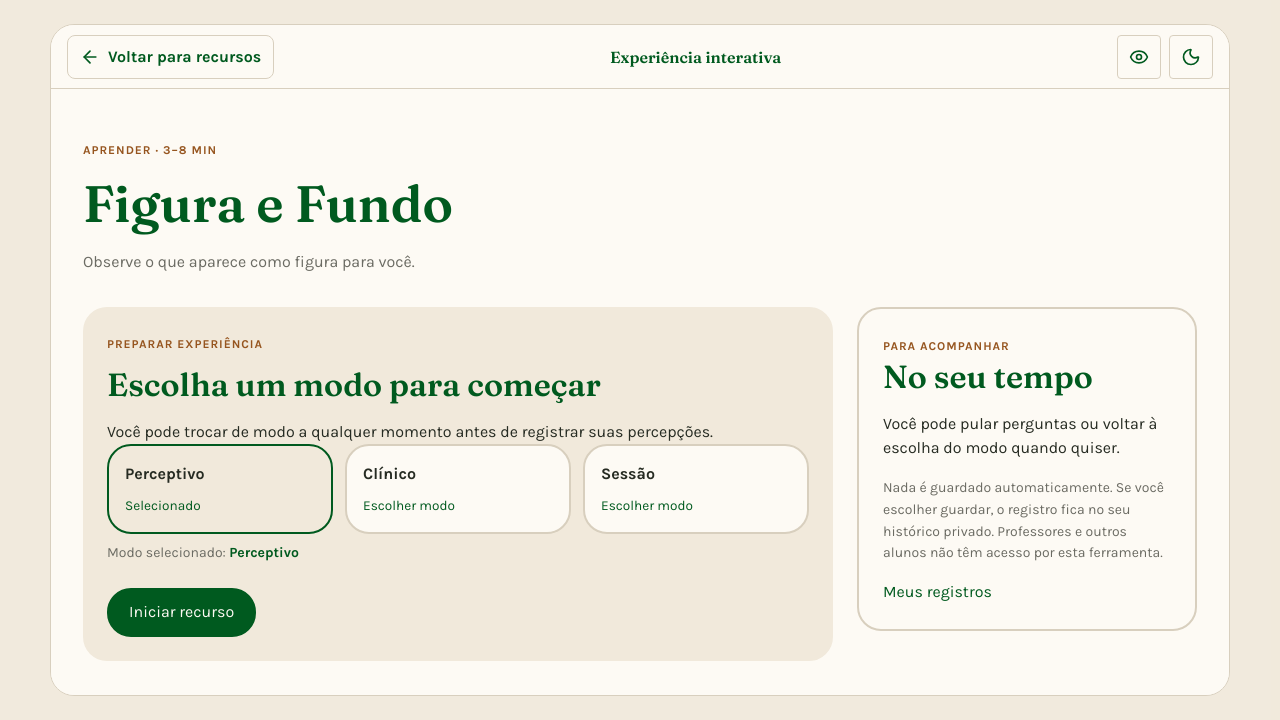
Test: ResourceHost mode changes › supports choosing a mode, starting, and returning to the mode screen
This screenshot has width=1280, height=720.
Click the button "Sessão Escolher modo".
click(696, 489)  # box top-left (583, 444), bottom-right (809, 534)
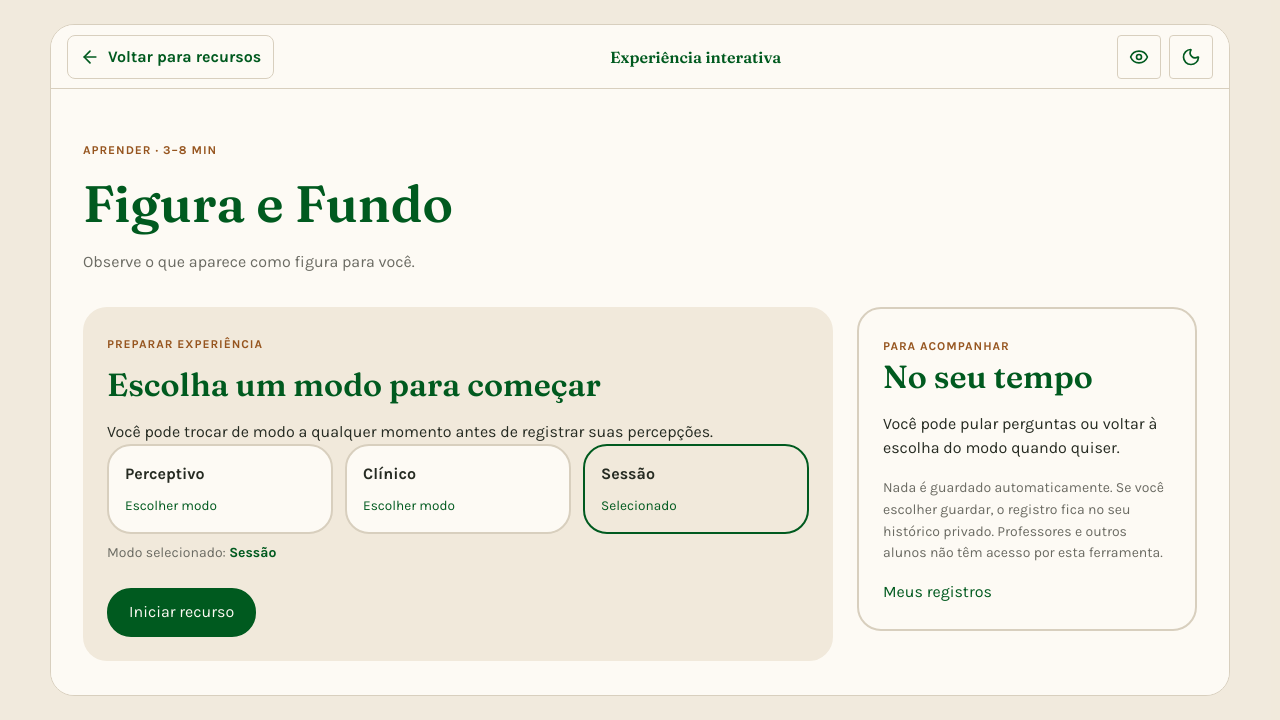
Click the button "Iniciar recurso".
click(182, 612)  # box top-left (107, 588), bottom-right (256, 637)
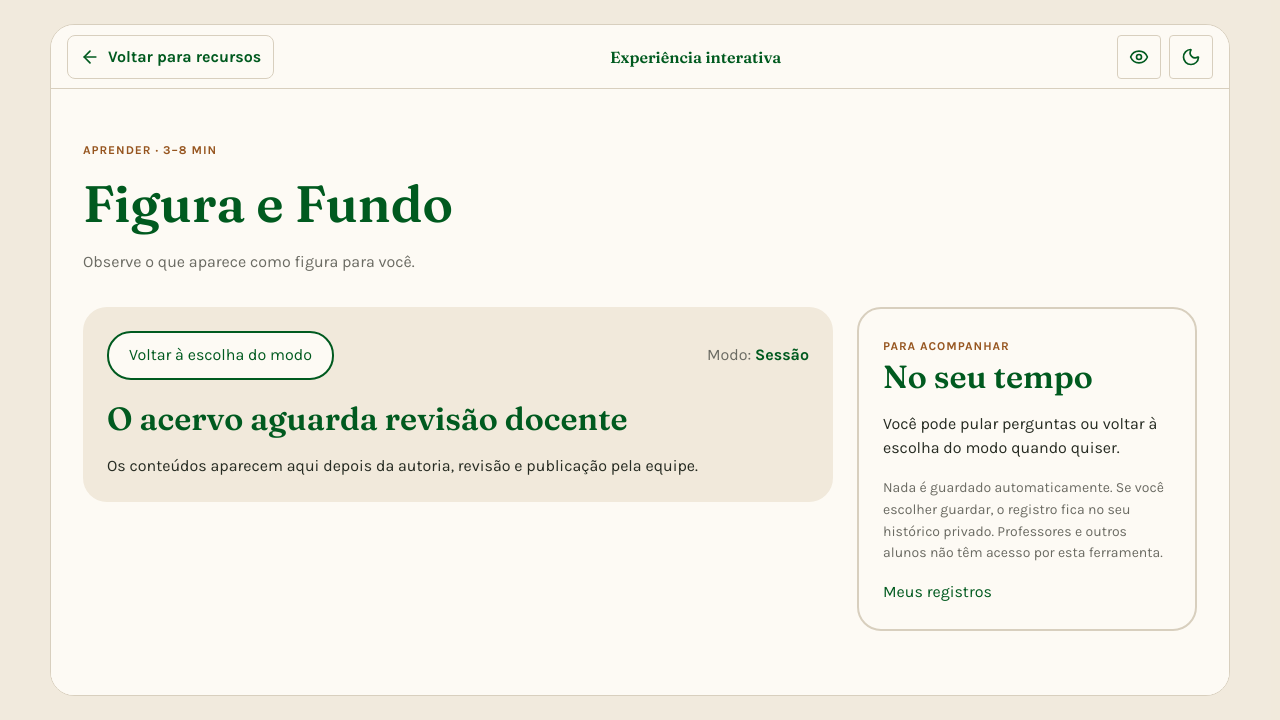
Now the heading "O acervo aguarda revisão docente" is shown, box top-left (107, 399), bottom-right (628, 438)
Click the button "Voltar à escolha do modo".
click(221, 355)  # box top-left (107, 331), bottom-right (334, 380)
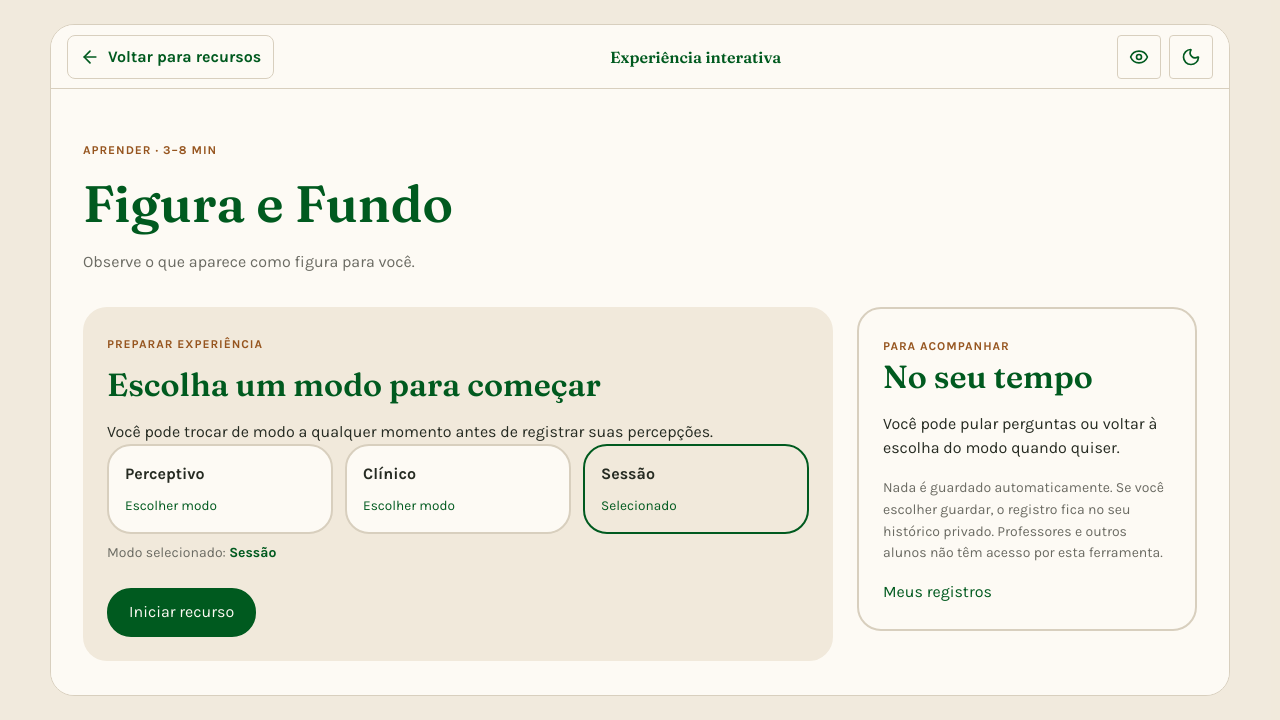
Now the button "Iniciar recurso" is shown, box top-left (107, 588), bottom-right (256, 637)
